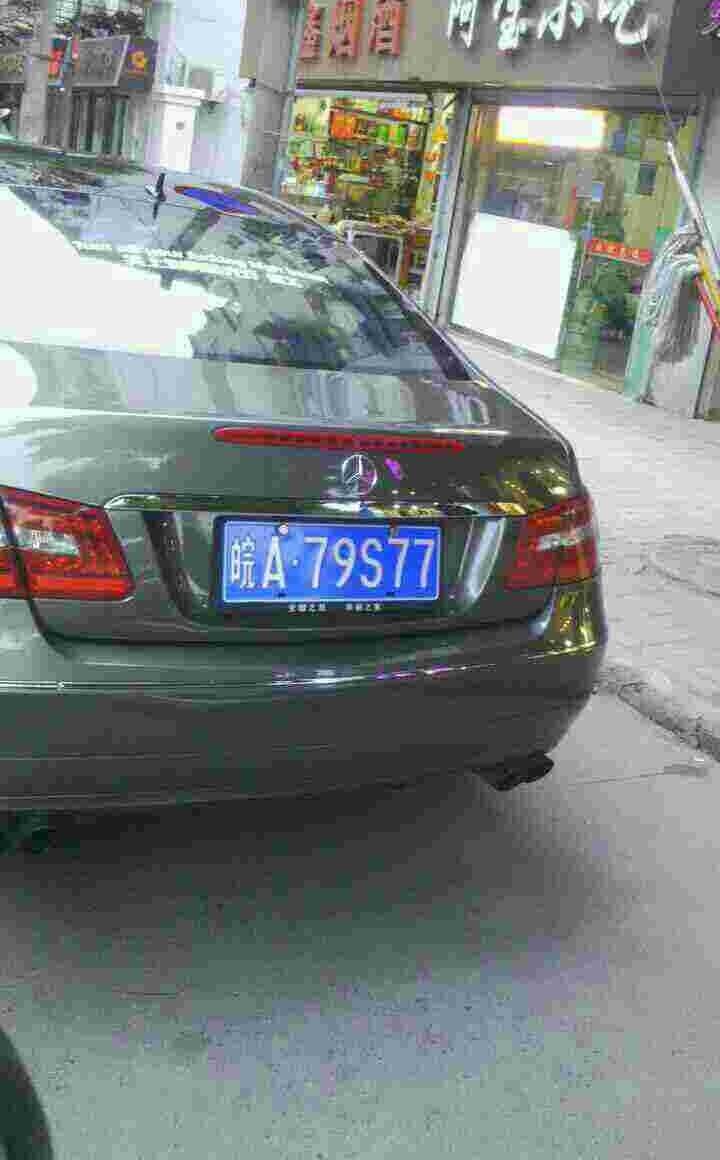plate: (229, 521, 452, 604)
